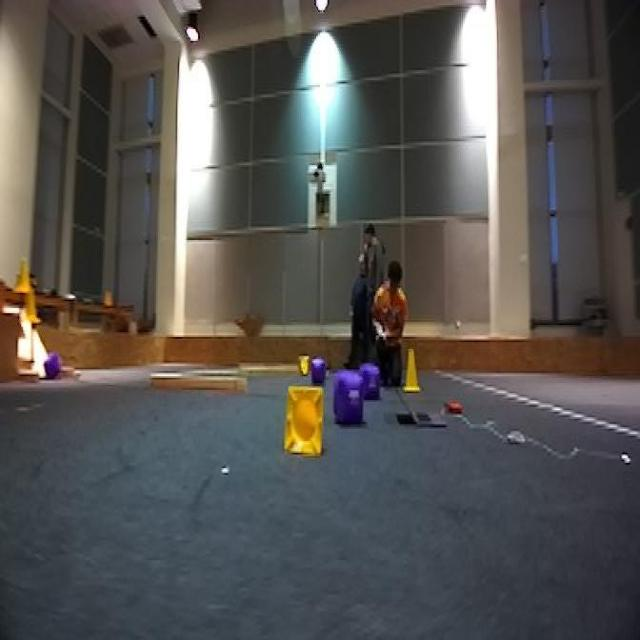frc_cone: (283, 383, 332, 465), (400, 347, 423, 393), (23, 286, 39, 328), (15, 260, 30, 300), (294, 350, 312, 372)
frc_cube: (337, 371, 366, 422), (359, 362, 382, 397), (42, 350, 60, 384), (308, 356, 326, 378)
